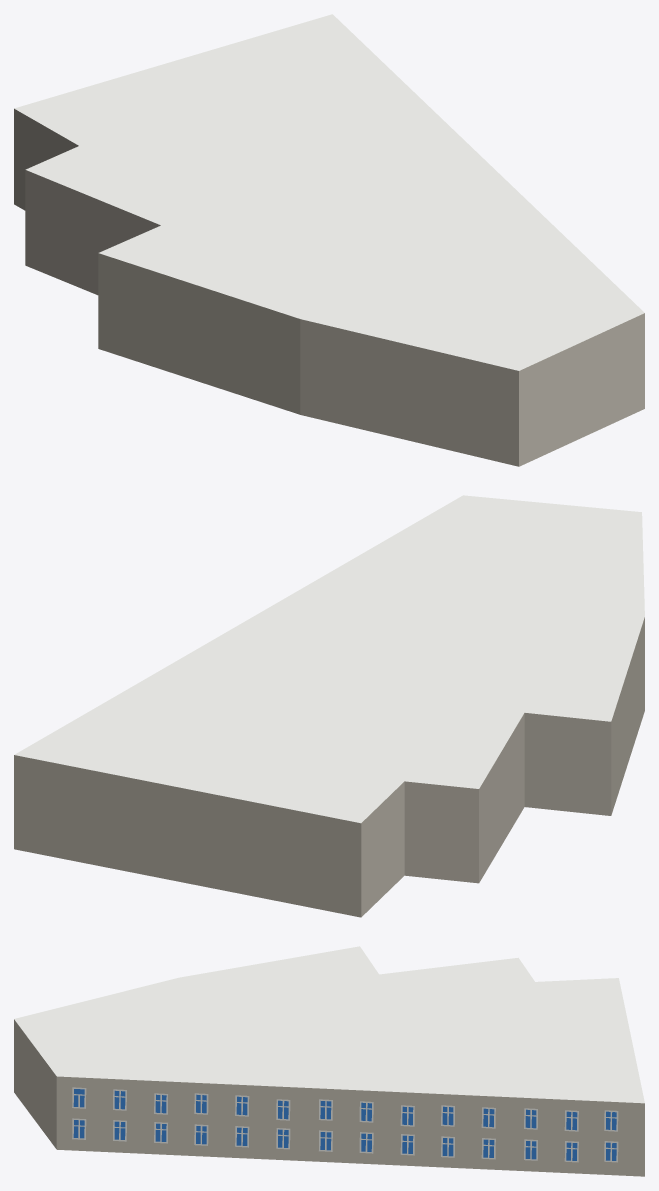
3 views of the same model, one above another, from view 1: azimuth 30°, elevation 25°; view 2: azimuth 150°, elevation 25°; view 3: azimuth 270°, elevation 25° (orthographic). The views are drawn at different scales.
Visible parts, largest first — view 1: Плоскость.657; view 2: Плоскость.657; view 3: Плоскость.657.
Boxes of the visible parts, x1,y1,x2,y2 form: Плоскость.657: (14, 14, 644, 466); Плоскость.657: (14, 495, 644, 917); Плоскость.657: (14, 946, 644, 1176).
Bounding box in the file's own units: 266 × 57.95 × 452.
